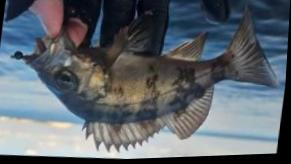fish: (23, 15, 276, 151)
